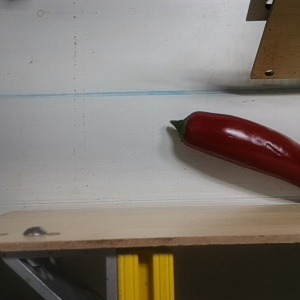Cut Point: (171, 111, 206, 148)
